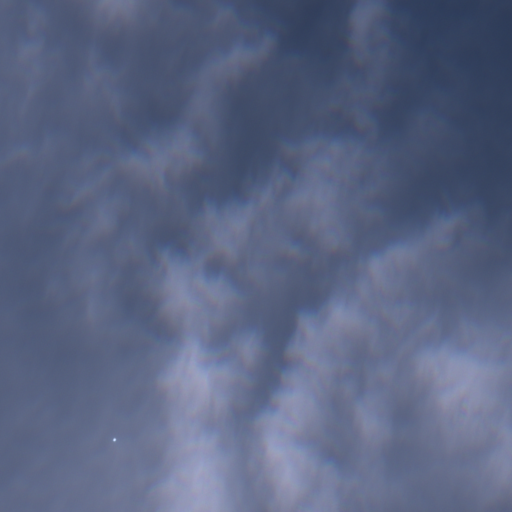Iceberg: (113, 437, 116, 441)
